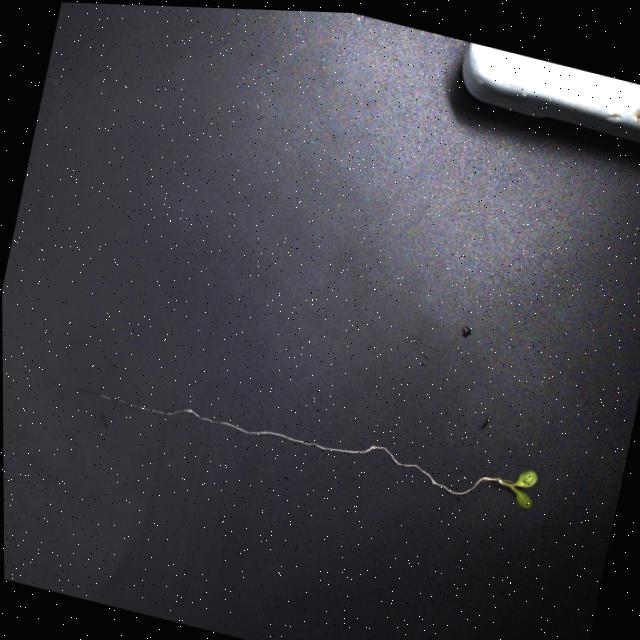leaf: (515, 471, 540, 512)
root: (70, 386, 494, 504)
steb: (492, 476, 516, 495)
